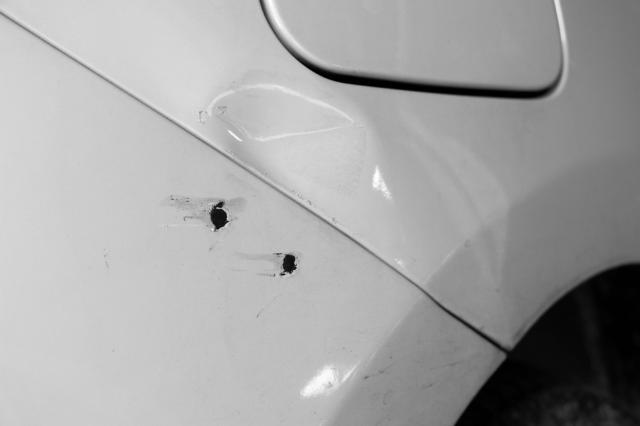Door: (152, 148, 355, 311)
Fender: (126, 42, 524, 305)
